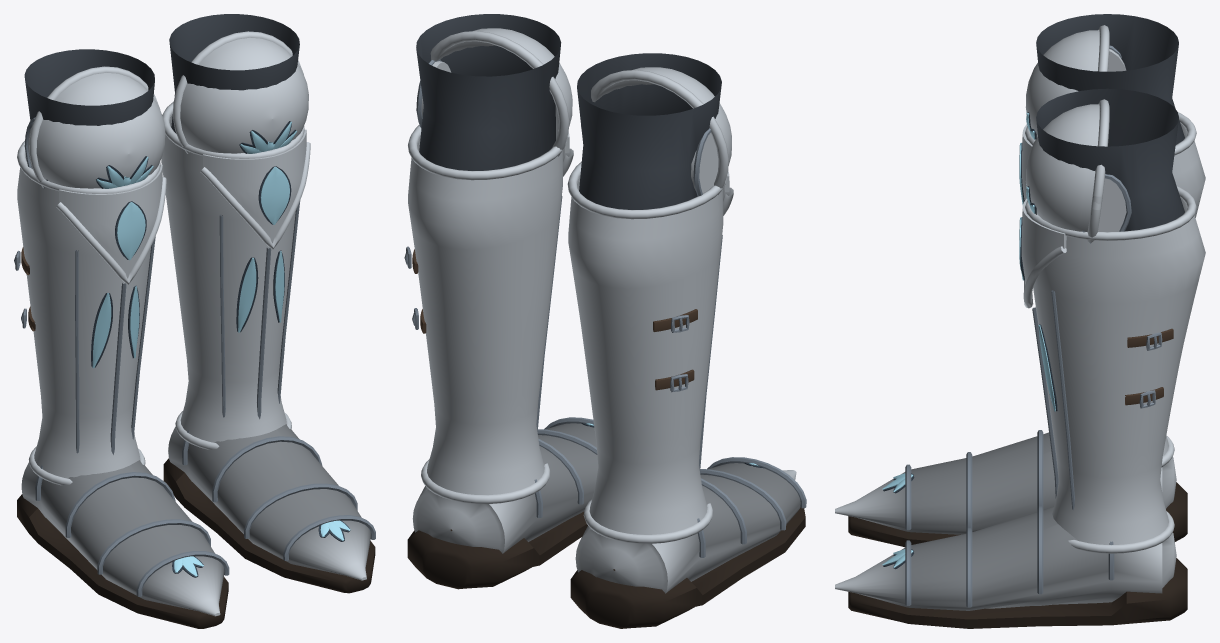
File: f_mithril.glb
3 views of the same model, side by side, from view 1: azimuth 30°, elevation 25°; view 2: azimuth 150°, elevation 25°; view 3: azimuth 270°, elevation 25° (orthographic). The views are drawn at different scales.
Parts seen in each view (by area): view 1: LegR_Boot, LegL_Boot, LegR_BootFoot, LegL_BootFoot; view 2: LegL_Boot, LegR_Boot, LegR_BootFoot, LegL_BootFoot; view 3: LegL_Boot, LegL_BootFoot, LegR_BootFoot, LegR_Boot.
Part boxes in pixels (bbox=[...]): LegR_Boot: bbox=[14, 49, 166, 485]; LegL_Boot: bbox=[161, 14, 310, 449]; LegR_BootFoot: bbox=[17, 460, 229, 628]; LegL_BootFoot: bbox=[163, 424, 375, 593]; LegL_Boot: bbox=[404, 14, 573, 503]; LegR_Boot: bbox=[567, 53, 733, 543]; LegR_BootFoot: bbox=[570, 457, 806, 628]; LegL_BootFoot: bbox=[407, 417, 598, 589]; LegL_Boot: bbox=[1019, 88, 1205, 553]; LegL_BootFoot: bbox=[835, 505, 1187, 628]; LegR_BootFoot: bbox=[835, 430, 1187, 547]; LegR_Boot: bbox=[1019, 14, 1205, 466].
Size of the model in its own units: 0.3648 by 0.5954 by 0.4013.
